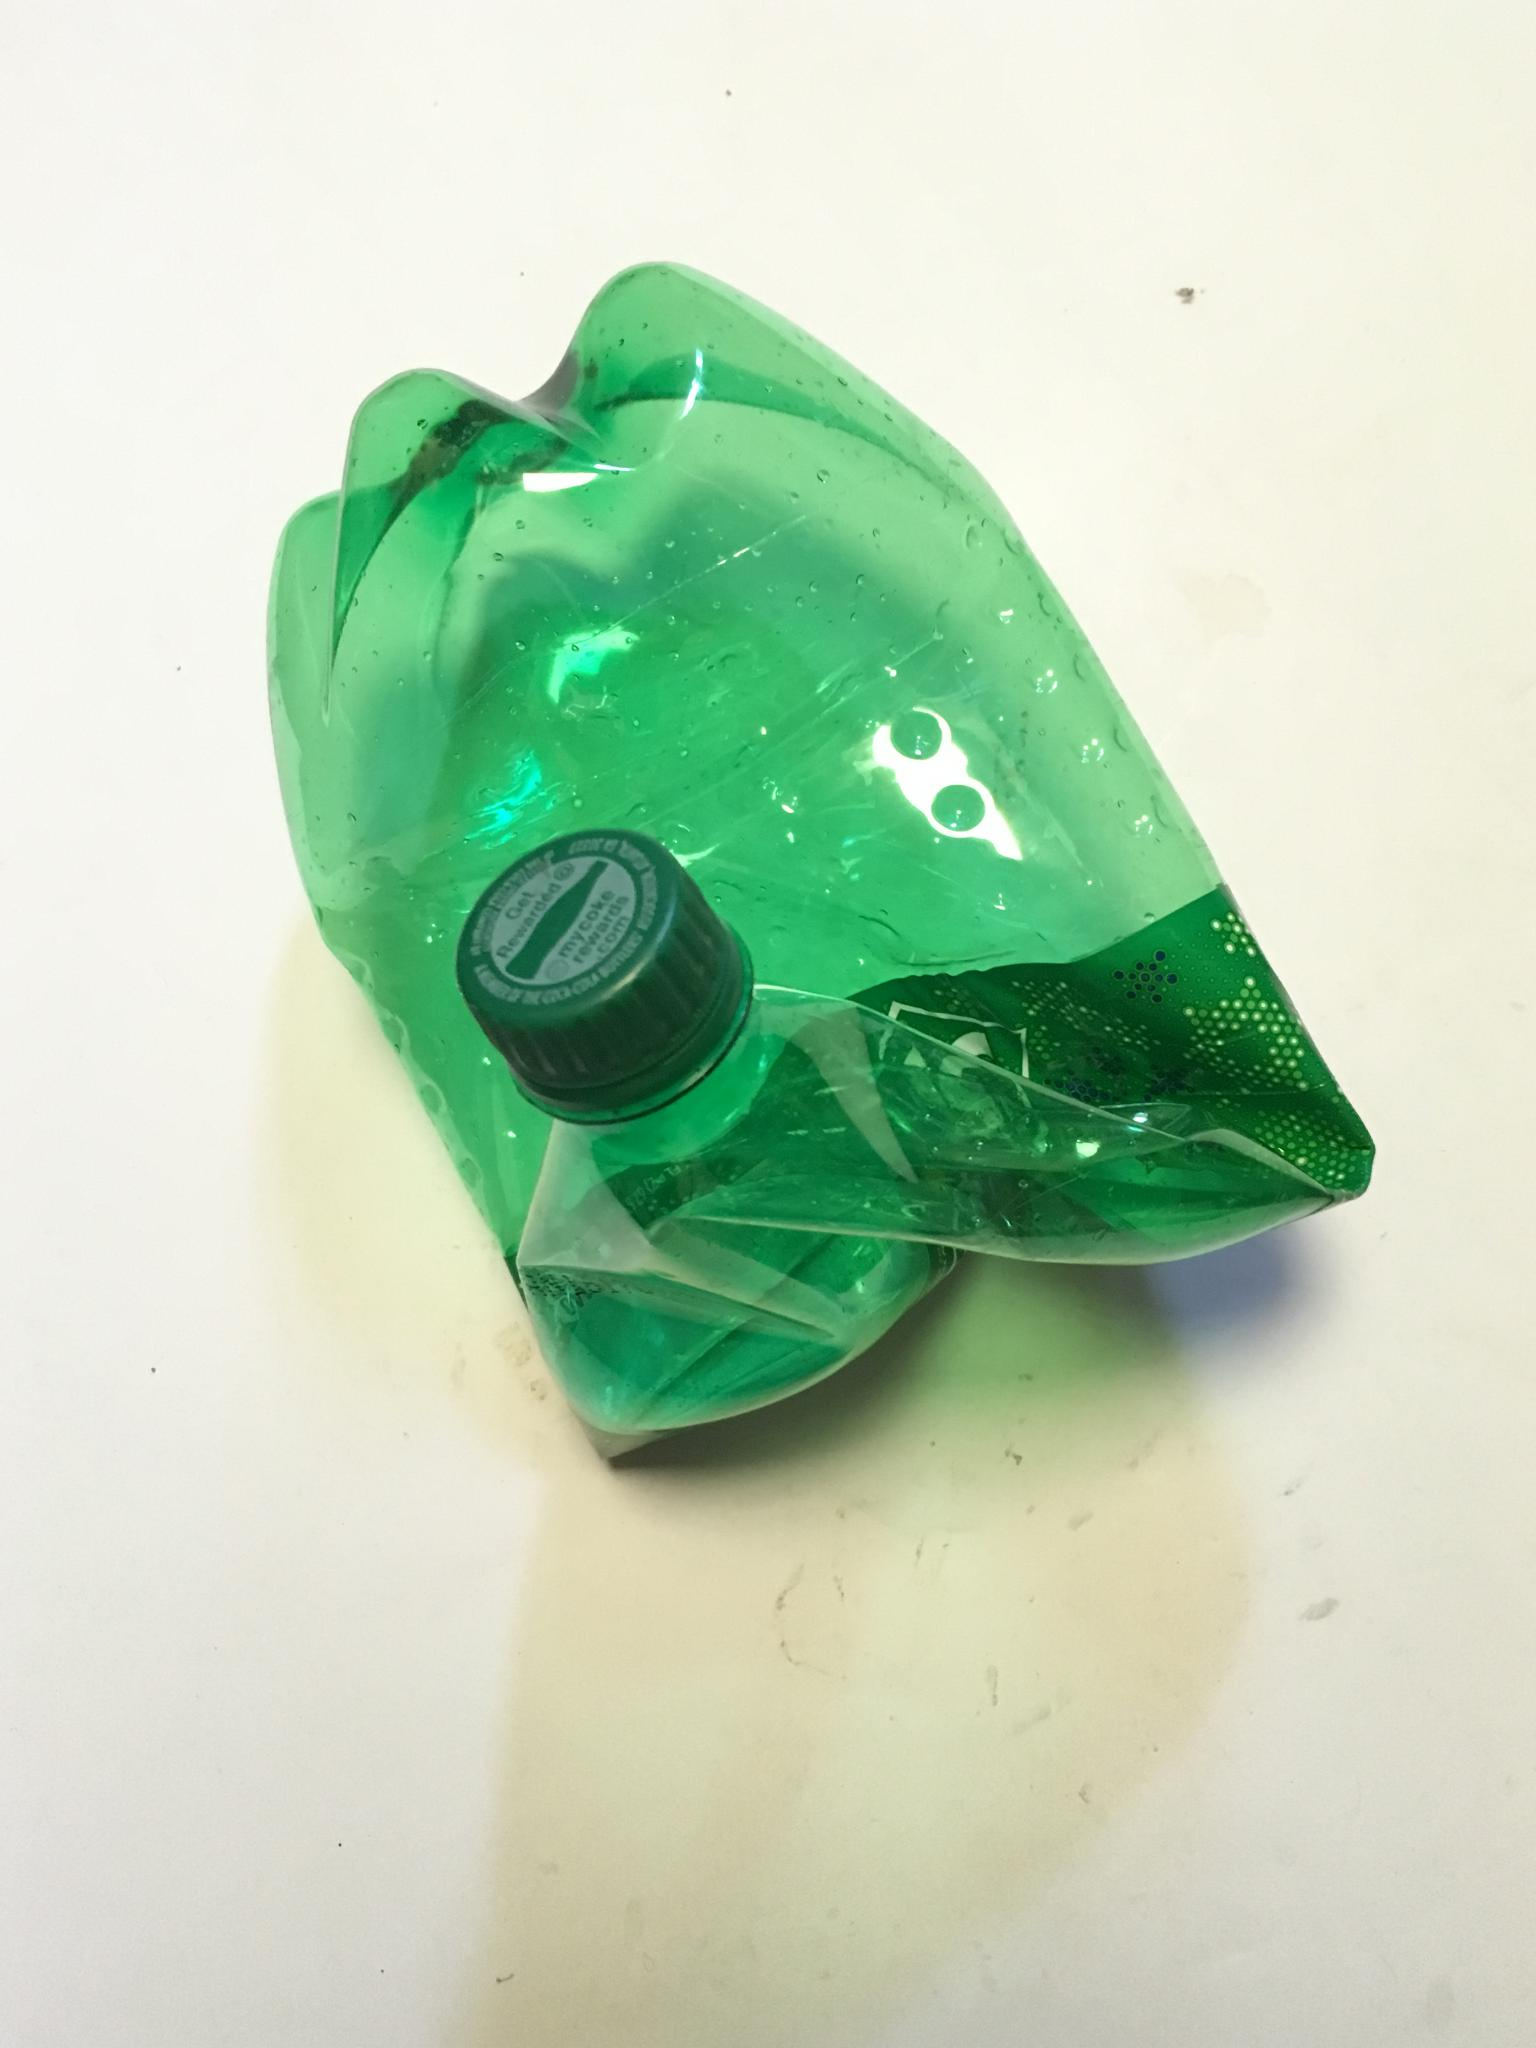Plastic: (210, 248, 1410, 1477)
